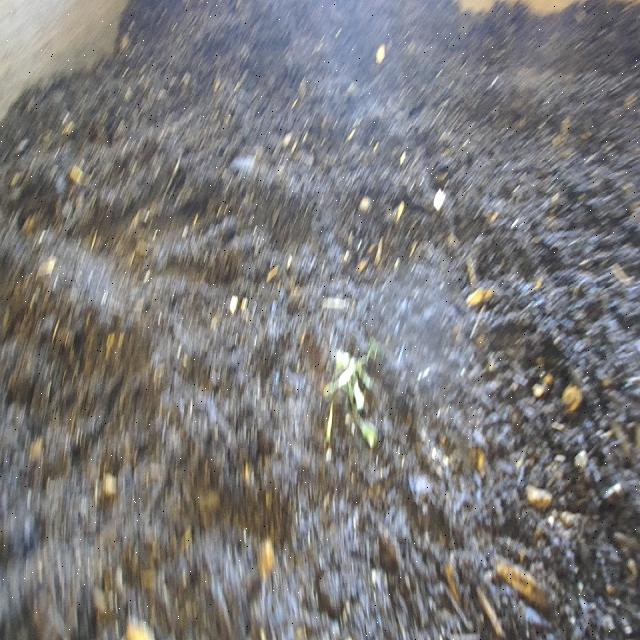Healthy: (316, 312, 400, 491)
